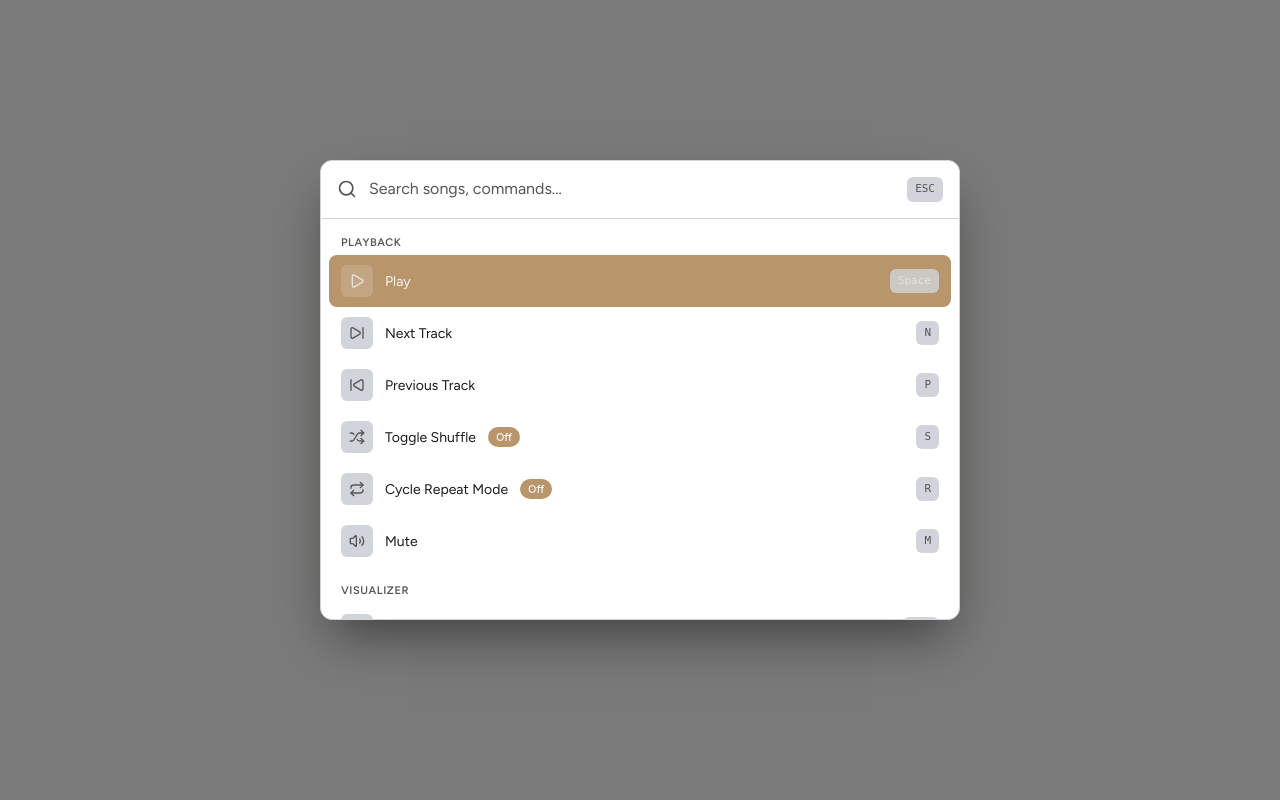
Test case: CommandMenu › song search › shows songs when searching by title
The width and height of the screenshot is (1280, 800).
Type "Test Song" into the dropdown with placeholder "Search songs, commands...". click: (632, 189)
box: x1=369 y1=177 x2=895 y2=201
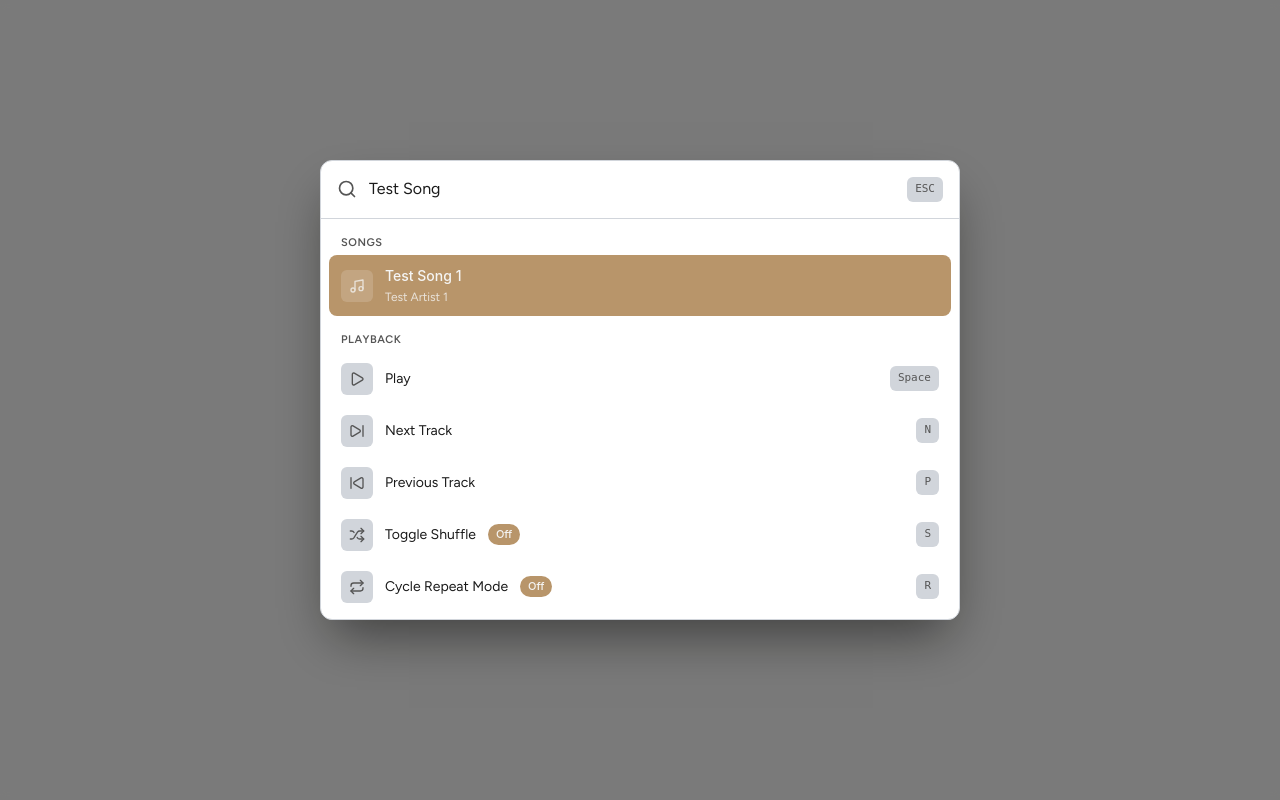
Check: the text "Test Song 1" is shown, box x1=385 y1=267 x2=462 y2=284
